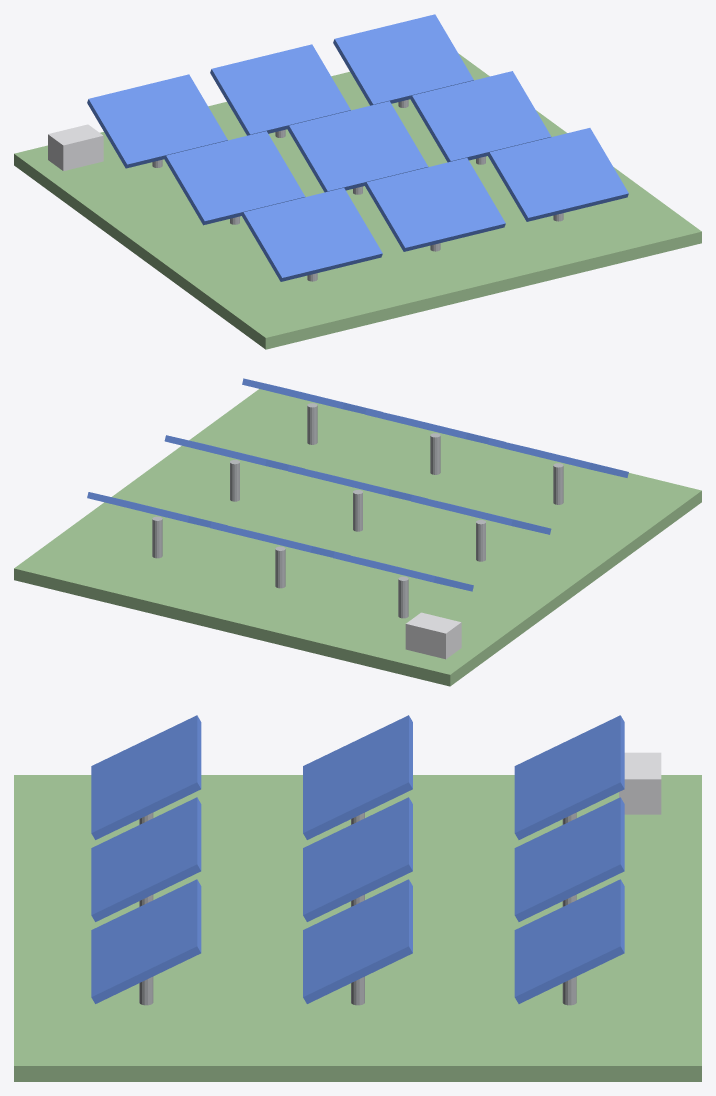
Rendered from solar.glb.
3 views of the same model, one above another, from view 1: azimuth 30°, elevation 25°; view 2: azimuth 150°, elevation 25°; view 3: azimuth 270°, elevation 25° (orthographic). The views are drawn at different scales.
Visible parts, largest first — view 1: solar; view 2: solar; view 3: solar.
Boxes of the visible parts, x1,y1,x2,y2 form: solar: (14,14,701,349); solar: (14,378,701,686); solar: (14,715,701,1081).
Size of the model in its own units: 1.95 by 0.3308 by 1.95.
